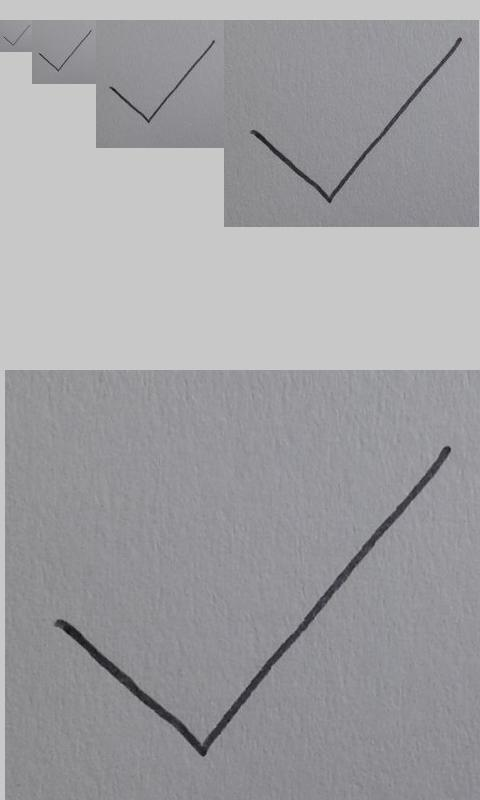check_box: (56, 447, 451, 753), (252, 38, 461, 205), (110, 41, 215, 123), (39, 30, 93, 72), (3, 25, 29, 46)
